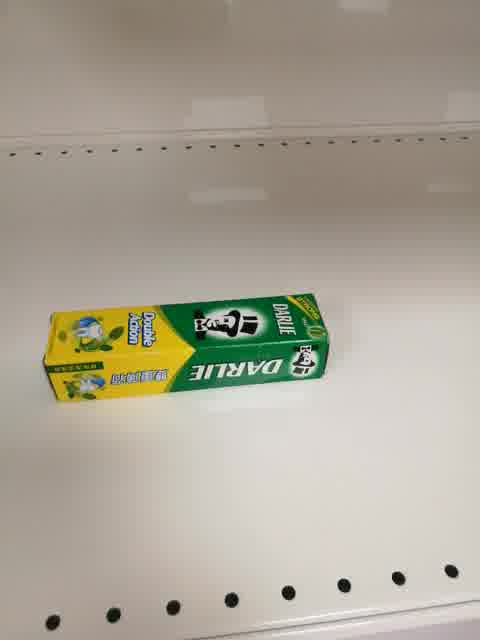toothpaste: (42, 291, 330, 404)
